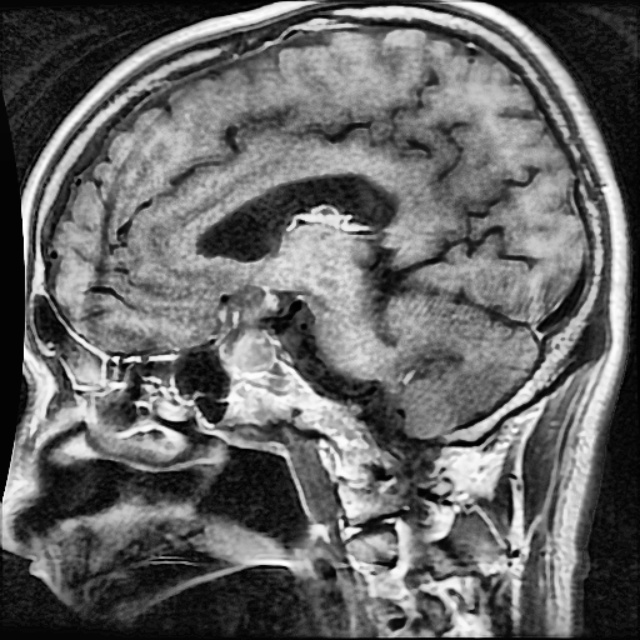Pituitary: (220, 333, 279, 379)
